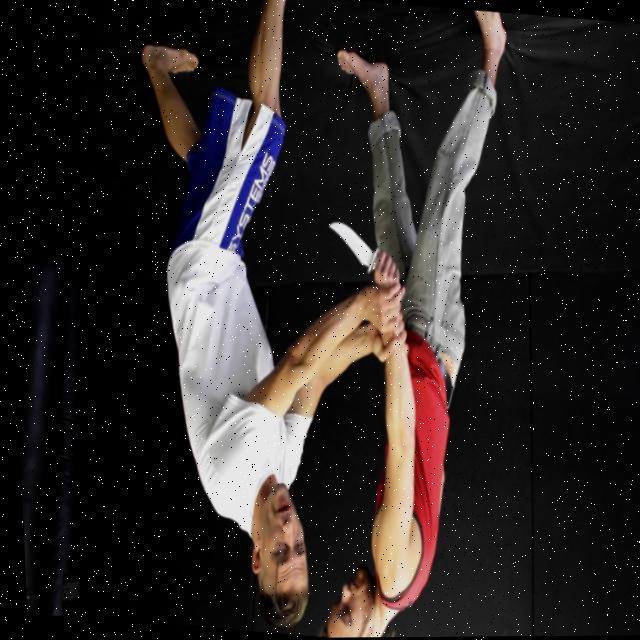knife: (321, 211, 377, 278)
